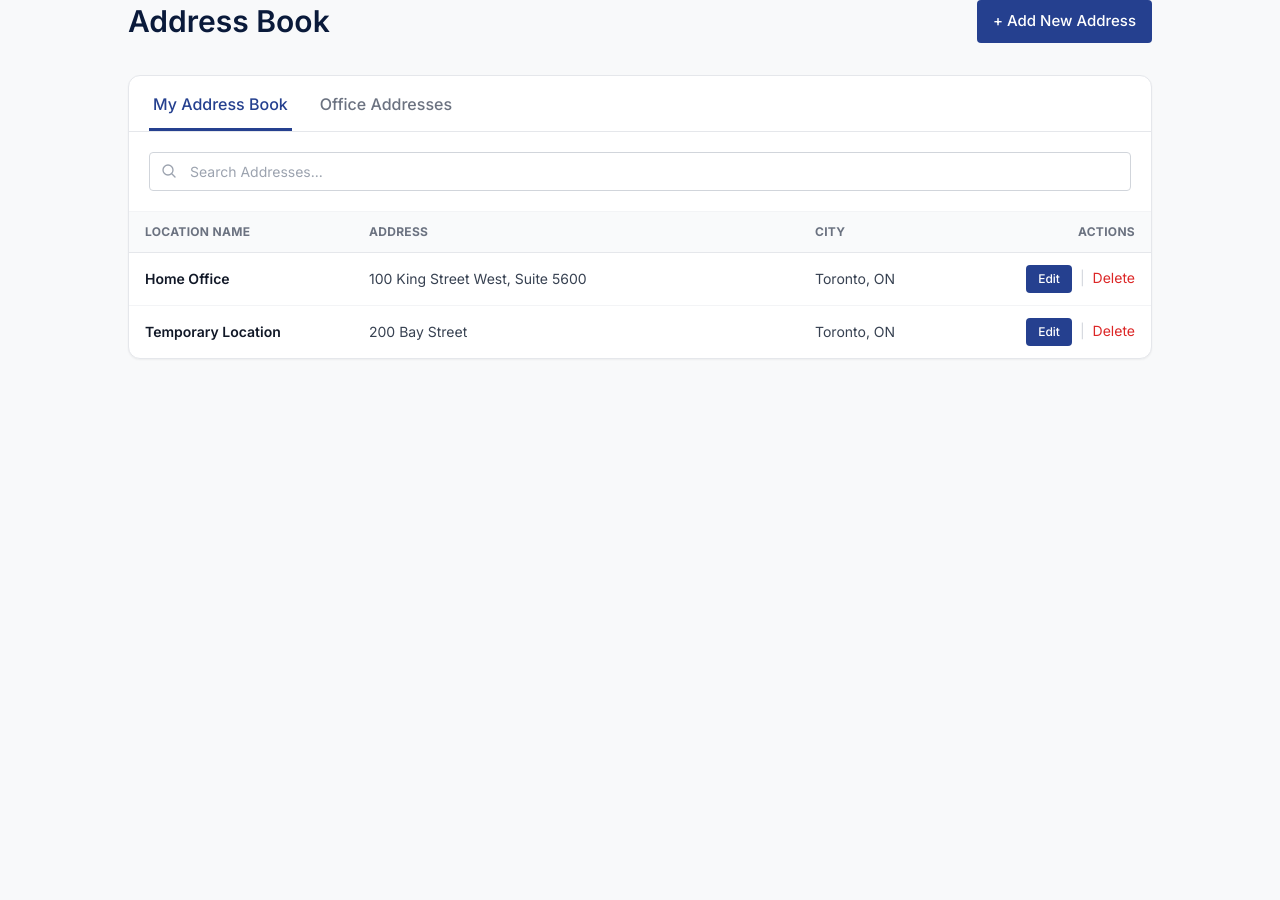
Scenario: AddressBookPage › AB-05 Save creates a personal address
This screenshot has width=1280, height=900.
Click the button "+ Add New Address": (1064, 21) [977,0,1152,42]
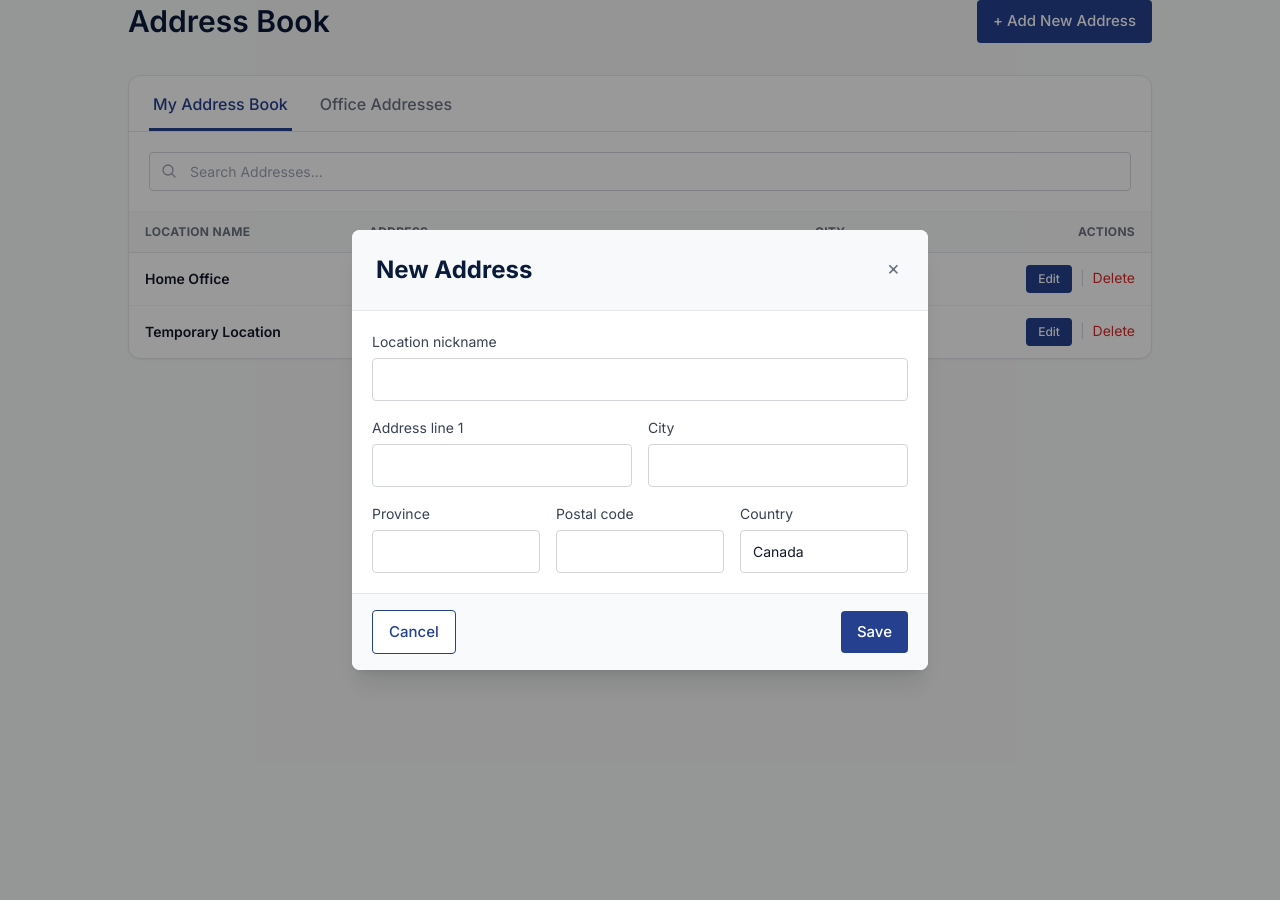
In the field with id "addr-nickname": (640, 379) [372,358,908,401], type "Cabin"
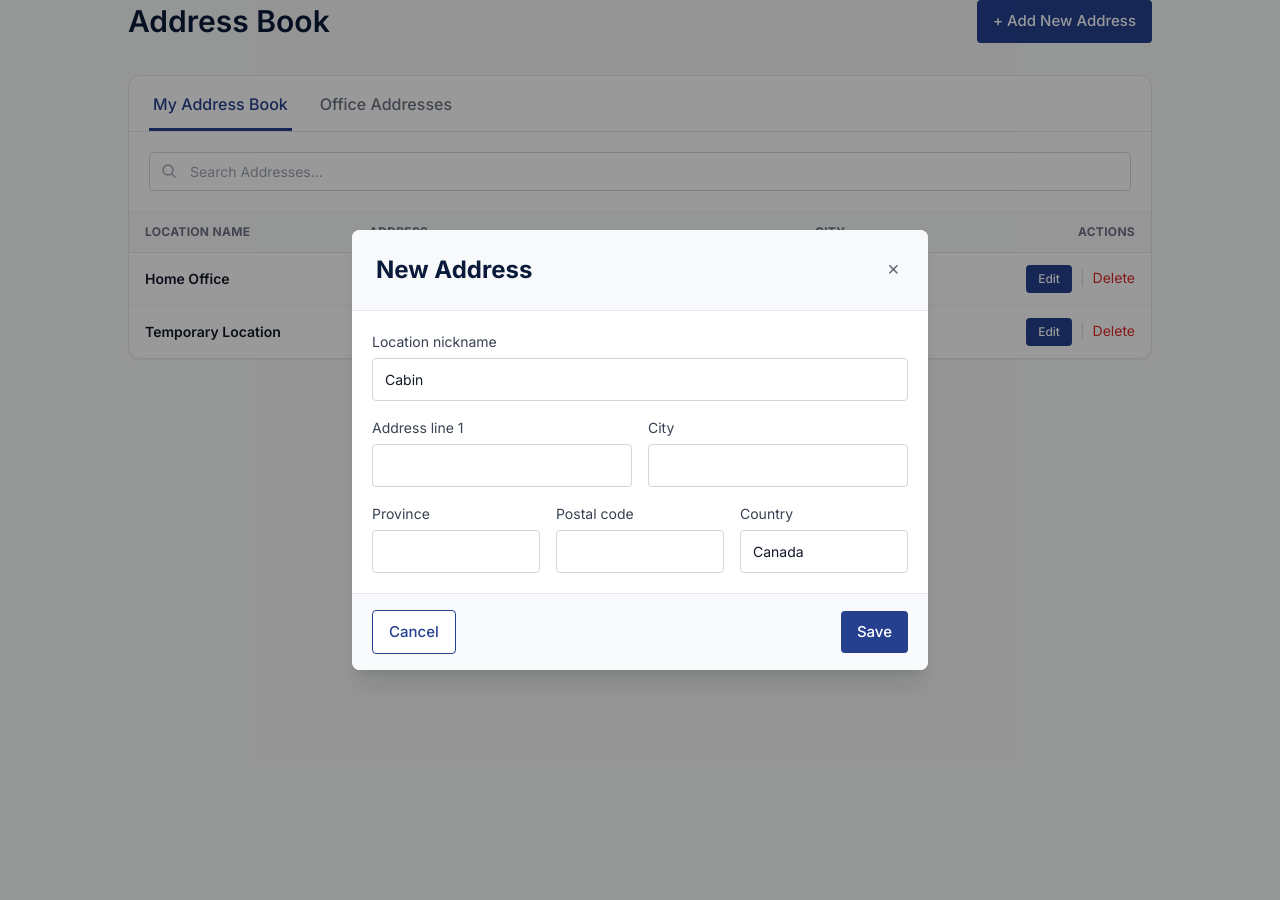
In the field labelled "Address line 1": (502, 465) [372,444,632,487], type "1 Pine Road"
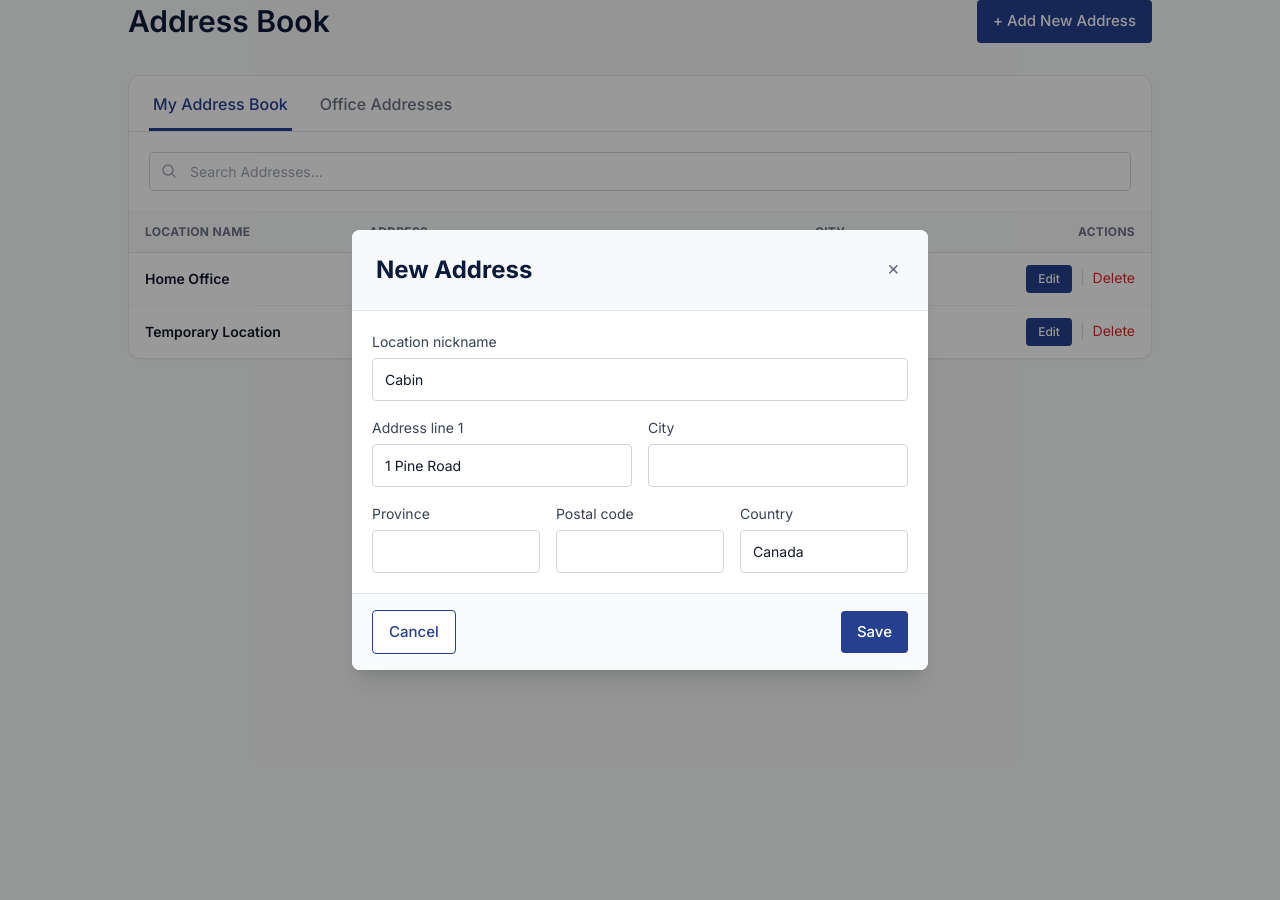
In the field labelled "City": (778, 465) [648,444,908,487], type "Banff"
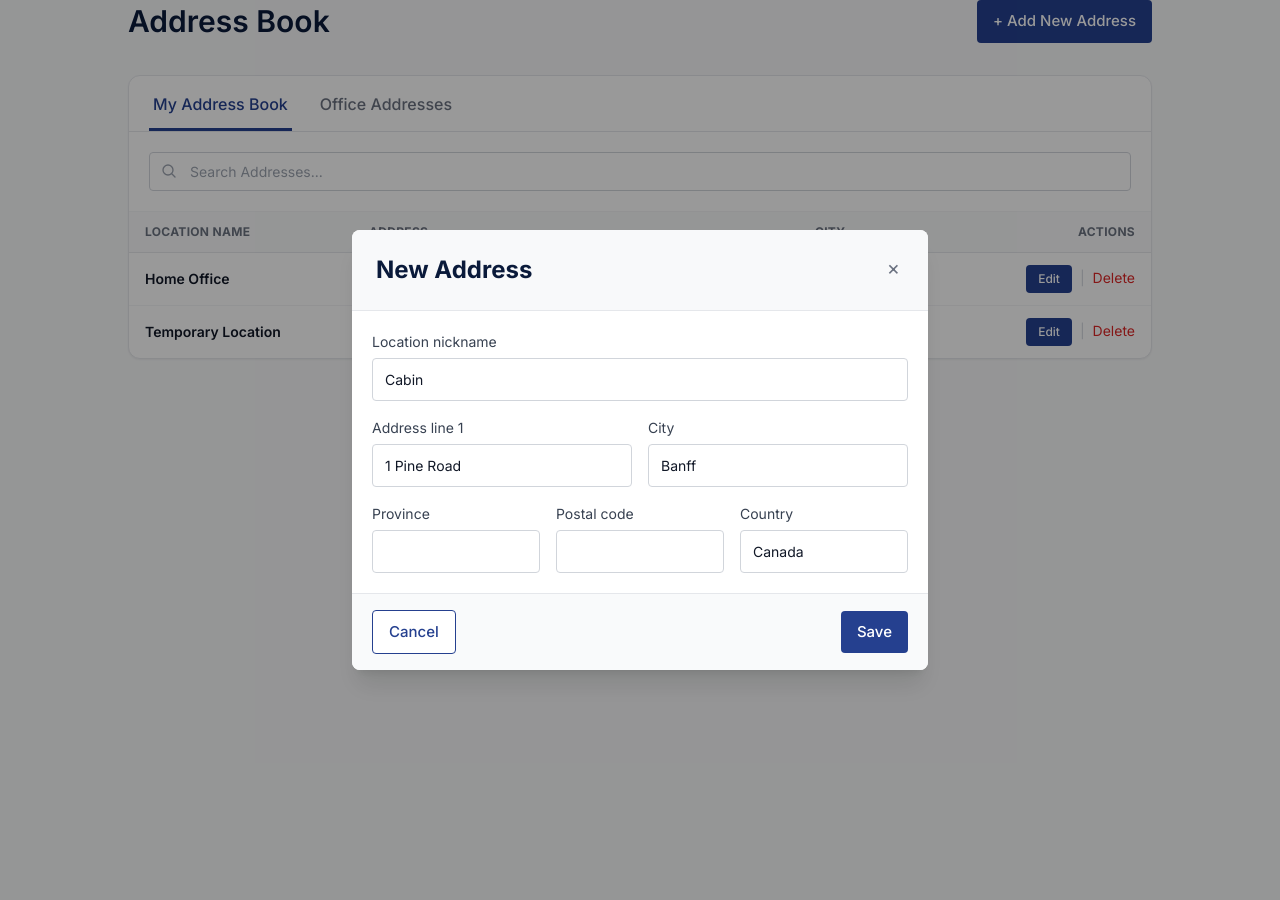
Submit the form, box [352,311,928,670]
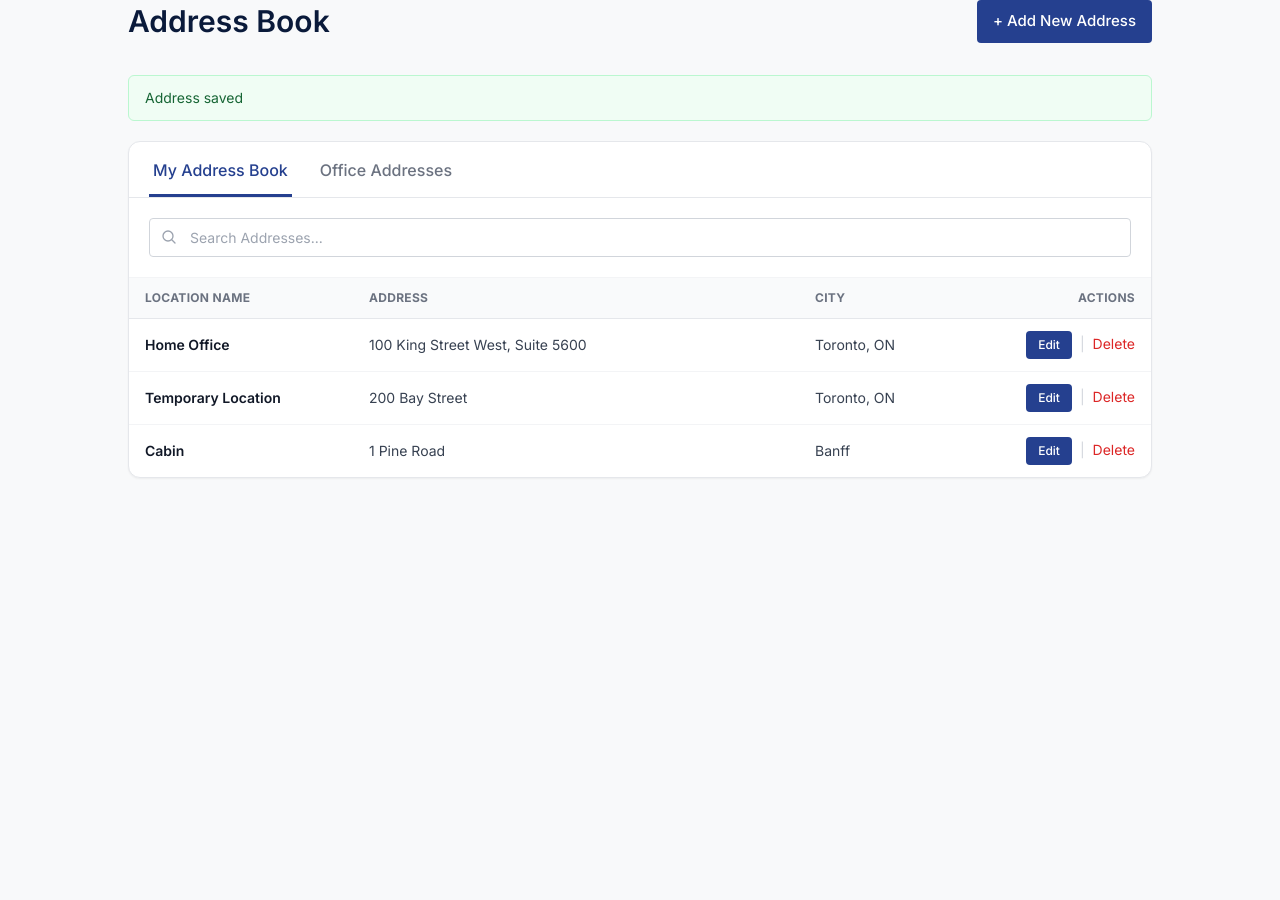
Now the dialog is gone
Now the text "Address saved" is shown, box [128,74,1152,120]
Now the text "Cabin" is shown, box [129,424,353,477]
